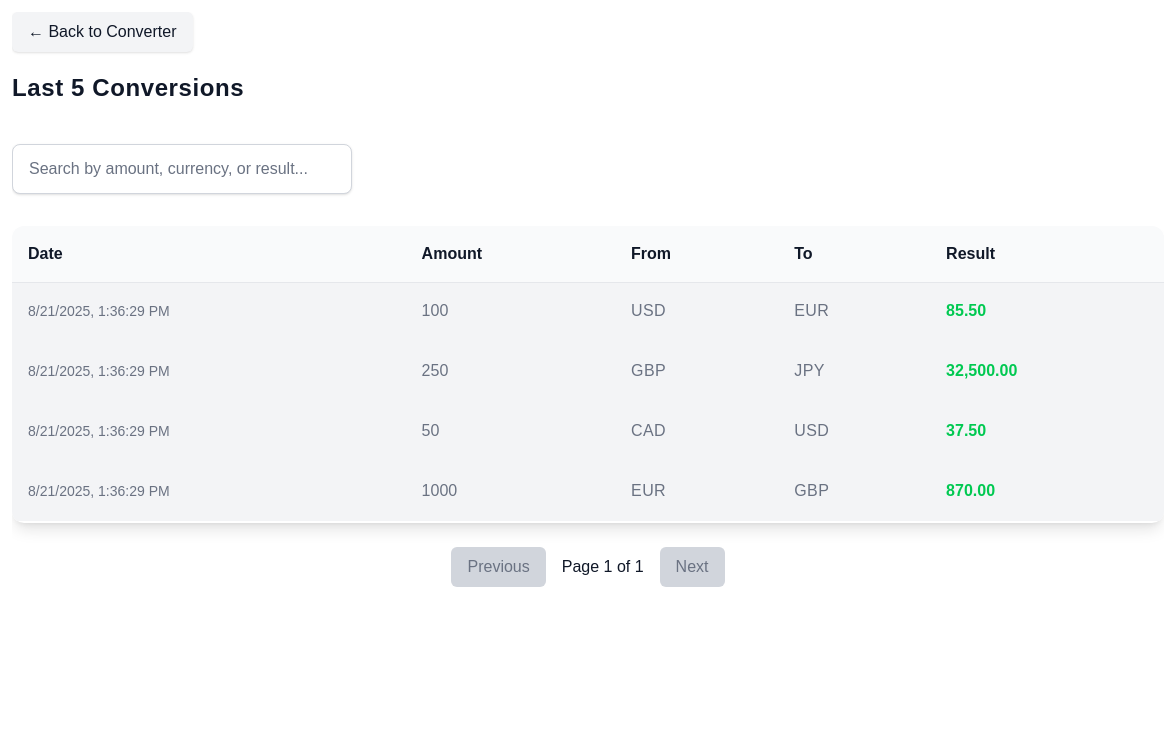
Scenario: TransactionHistory › clears search and shows all transactions when input is empty
The image size is (1164, 732).
Note: First search for something specific
Type "USD" into the field with placeholder "Search by amount, currency, or result..." at point(182, 169), box top-left (12, 144), bottom-right (352, 194)
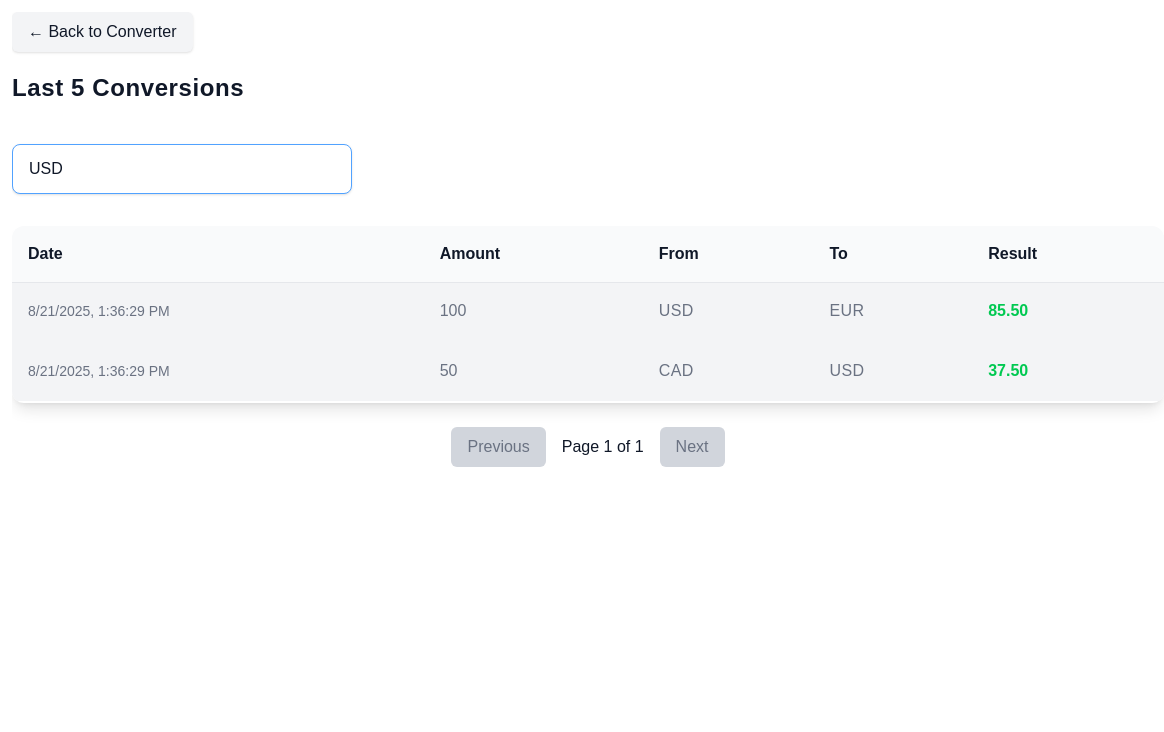
Note: Then clear the search
Clear the field with placeholder "Search by amount, currency, or result..." at point(182, 169), box top-left (12, 144), bottom-right (352, 194)
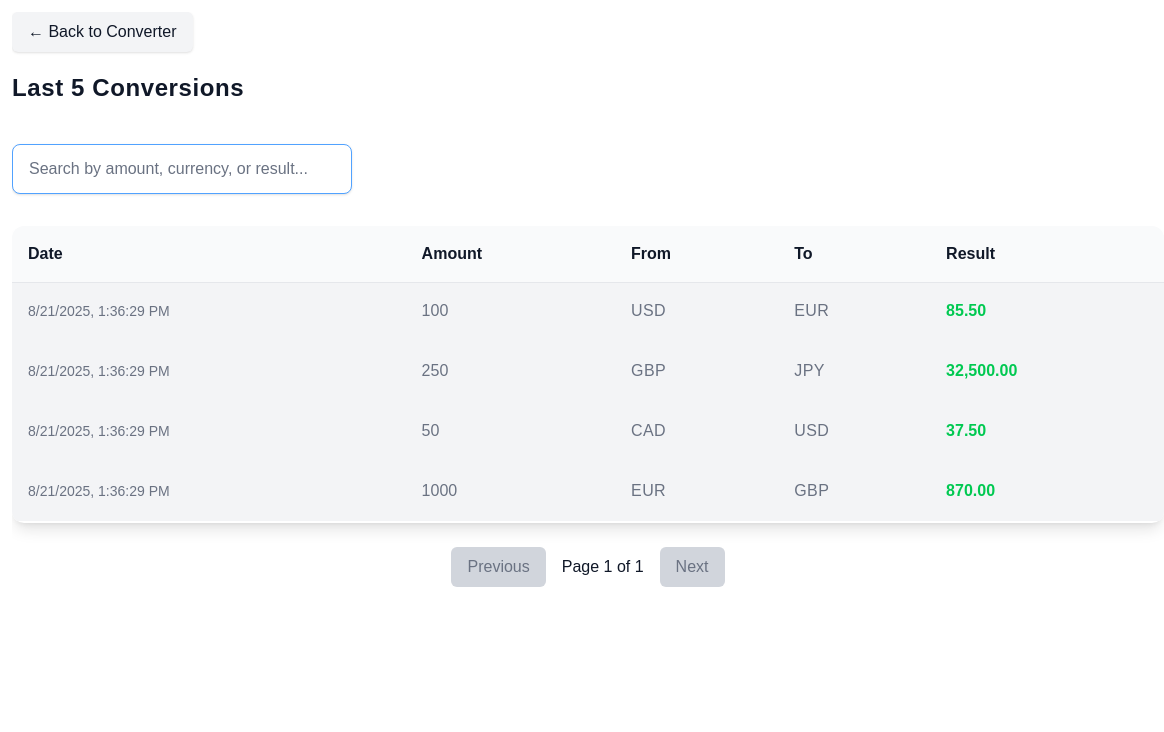
Now the text "USD" is shown 2 times, box top-left (615, 282), bottom-right (778, 341); top-left (778, 401), bottom-right (930, 461)
Now the text "GBP" is shown 2 times, box top-left (615, 341), bottom-right (778, 401); top-left (778, 461), bottom-right (930, 521)
Now the text "EUR" is shown 2 times, box top-left (778, 282), bottom-right (930, 341); top-left (615, 461), bottom-right (778, 521)
